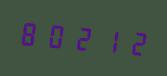eight: (18, 14, 43, 52)
one: (96, 21, 121, 59)
two: (70, 18, 95, 56), (122, 23, 147, 61)
zero: (44, 16, 69, 54)
